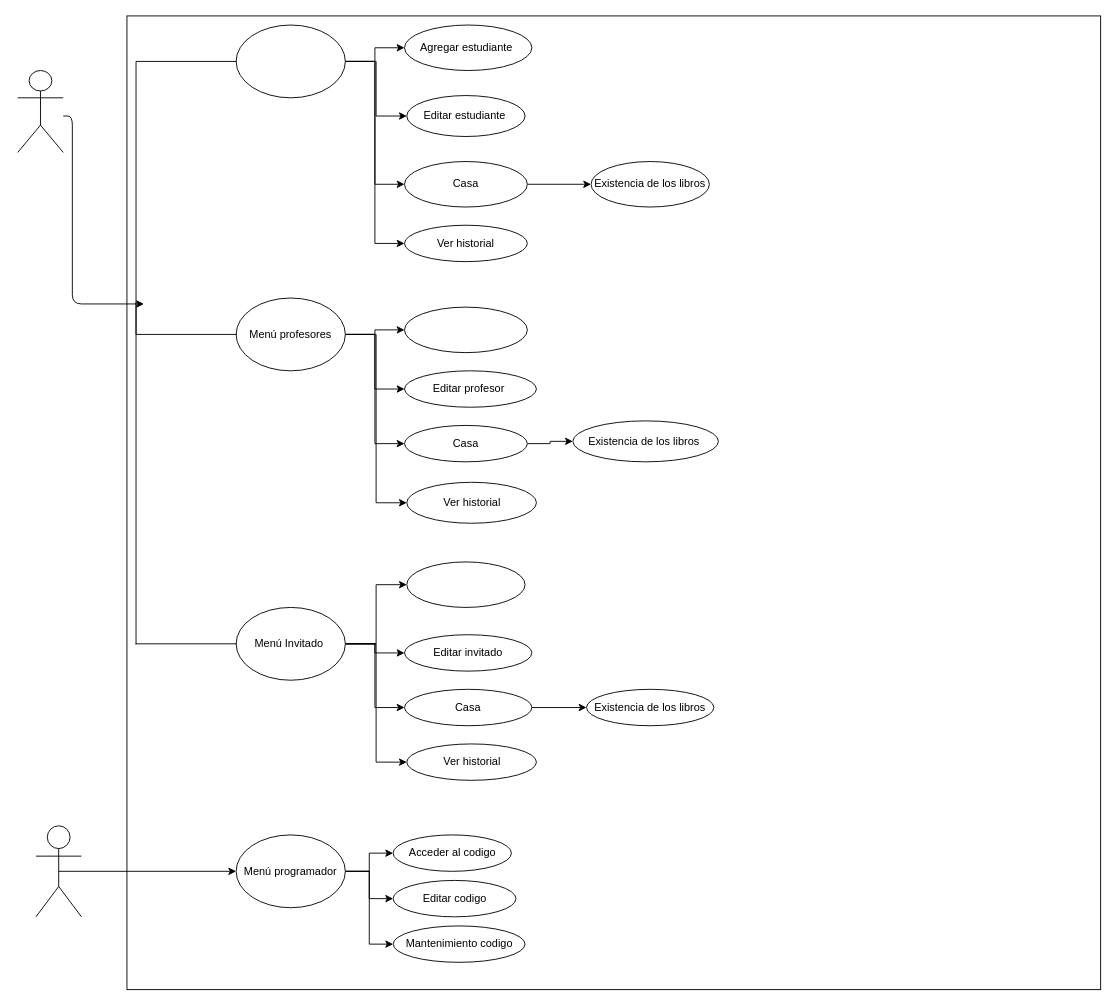
This 1117x1006 diagram has some shape labels left out. The shapes that lost their labels are listed below. From the top down, each one's centre as x and y in pixels, then its label:
At [290,61]: "Menú estudiantes".
At [40,111]: "Secretaria".
At [465,329]: "Agregar profesor".
At [465,584]: "Agregar invitado".
At [58,871]: "Programador".
